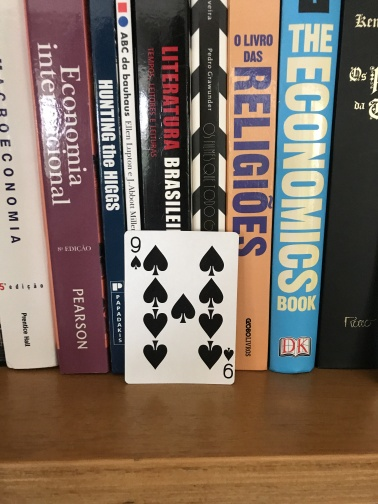nine: (123, 230, 240, 386)
